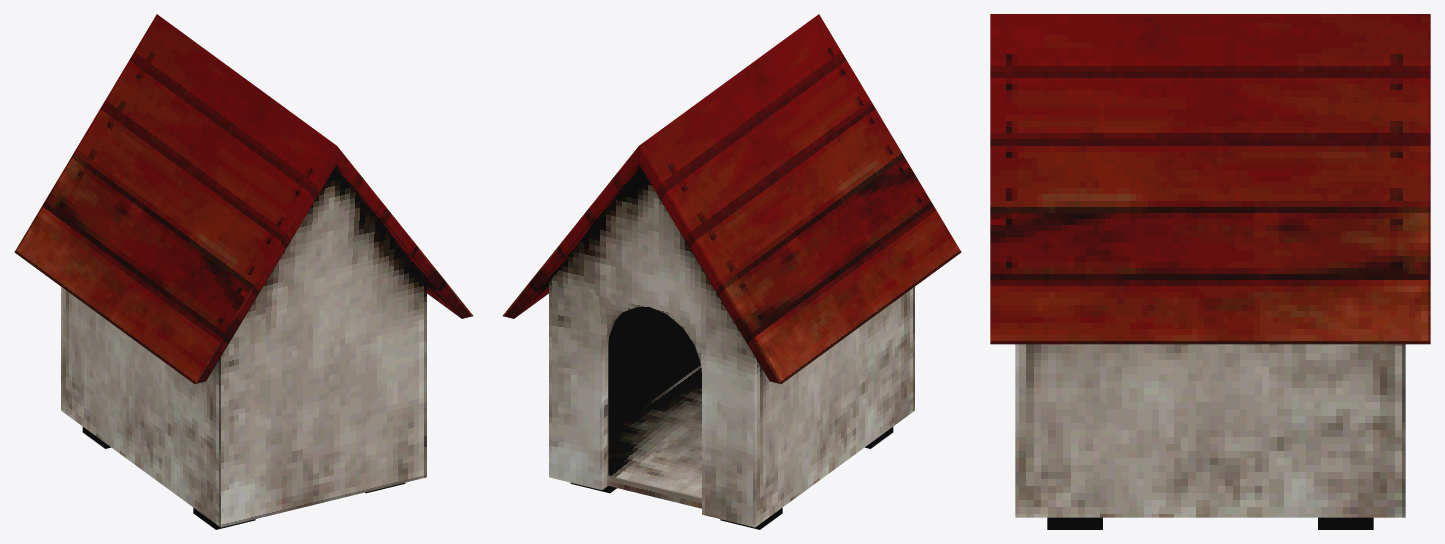
Rendered from ps2_save-icons_silenthill2-dogending.glb.
3 renders of one model, left to right at view 1: azimuth 30°, elevation 25°; view 2: azimuth 150°, elevation 25°; view 3: azimuth 270°, elevation 25°, orthographic. The views are drawn at different scales.
Parts seen in each view (by area): view 1: icon; view 2: icon; view 3: icon.
Part boxes in pixels (box(x1,y1,x2,y2)): icon: box(14, 14, 473, 529); icon: box(502, 14, 961, 529); icon: box(990, 14, 1430, 529).
Bounding box in the file's own units: 2.91 × 3.76 × 3.25.
Materials: 1 (1 with a texture image).
